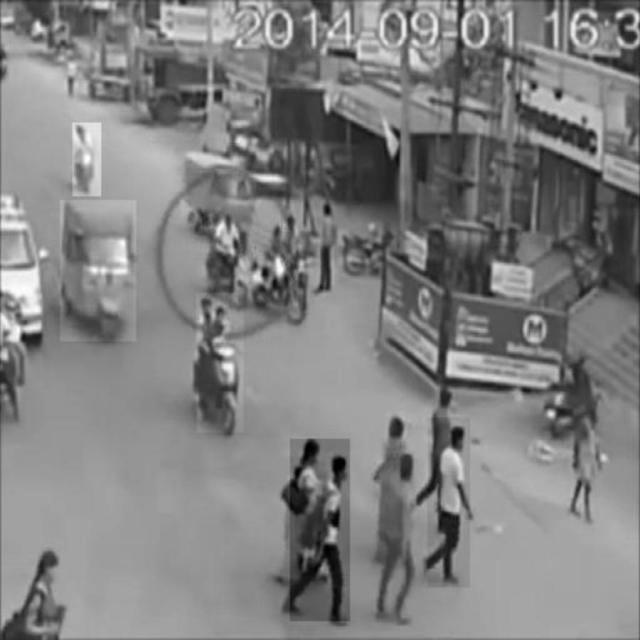accident: (196, 293, 243, 433)
person: (290, 440, 350, 622), (429, 418, 471, 588), (384, 455, 416, 625)
vehicle: (60, 201, 136, 342), (182, 157, 255, 251), (73, 123, 101, 196)
